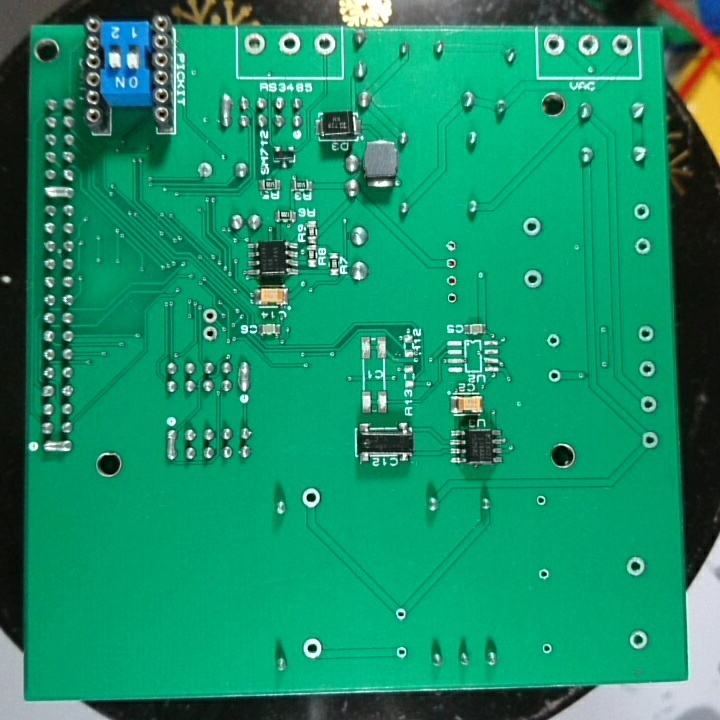F: (241, 30, 270, 58), (541, 32, 570, 58), (575, 32, 604, 58), (298, 483, 323, 513), (300, 633, 325, 663), (608, 32, 635, 59), (310, 31, 337, 58), (519, 214, 544, 242), (276, 31, 301, 59), (623, 553, 647, 581), (521, 266, 546, 292), (632, 200, 654, 226), (638, 392, 661, 416), (634, 234, 653, 262), (636, 320, 657, 345), (639, 427, 660, 452), (637, 358, 659, 381), (627, 626, 647, 650), (200, 323, 221, 345), (199, 304, 221, 324), (195, 159, 215, 181), (544, 329, 562, 351), (547, 366, 566, 386), (441, 236, 461, 254), (536, 564, 553, 584), (533, 489, 550, 509), (394, 604, 410, 624), (444, 253, 460, 272), (538, 640, 556, 656), (445, 289, 460, 306), (445, 271, 459, 289), (394, 643, 400, 655)
P: (233, 357, 254, 395), (39, 437, 76, 456), (41, 183, 76, 201), (163, 427, 180, 463), (218, 92, 233, 130)
